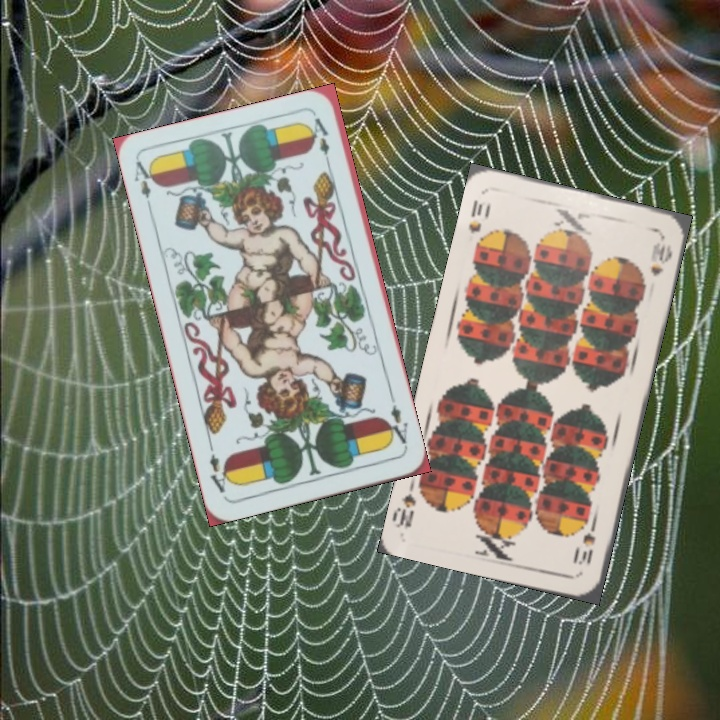EA: (130, 157, 159, 216), (382, 393, 411, 451)
S10: (572, 516, 599, 568), (464, 195, 486, 236)
